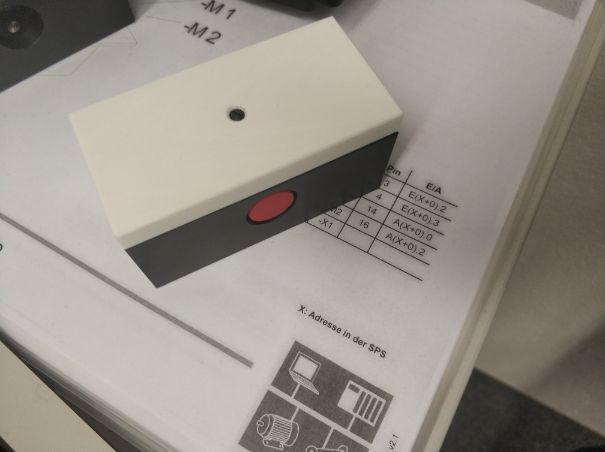white+black+red: (60, 14, 409, 295)
